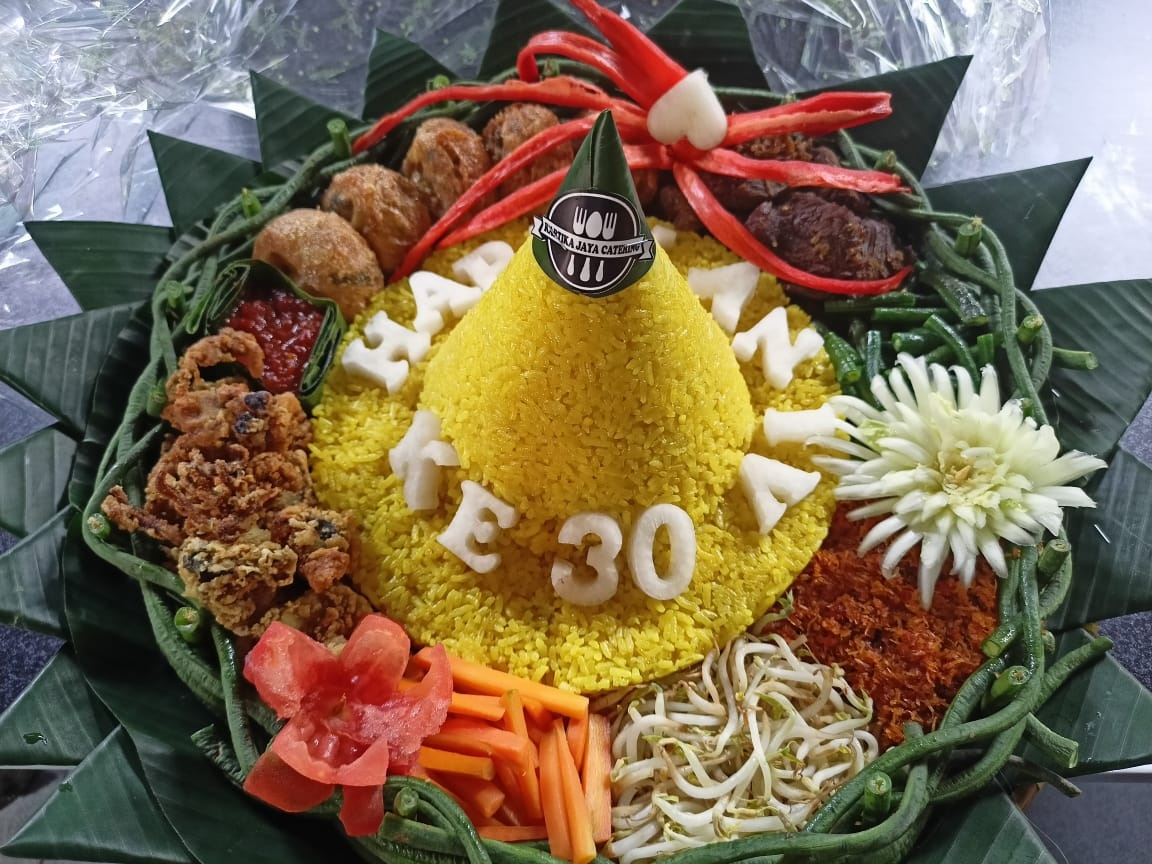tumpeng: (406, 110, 801, 503)
